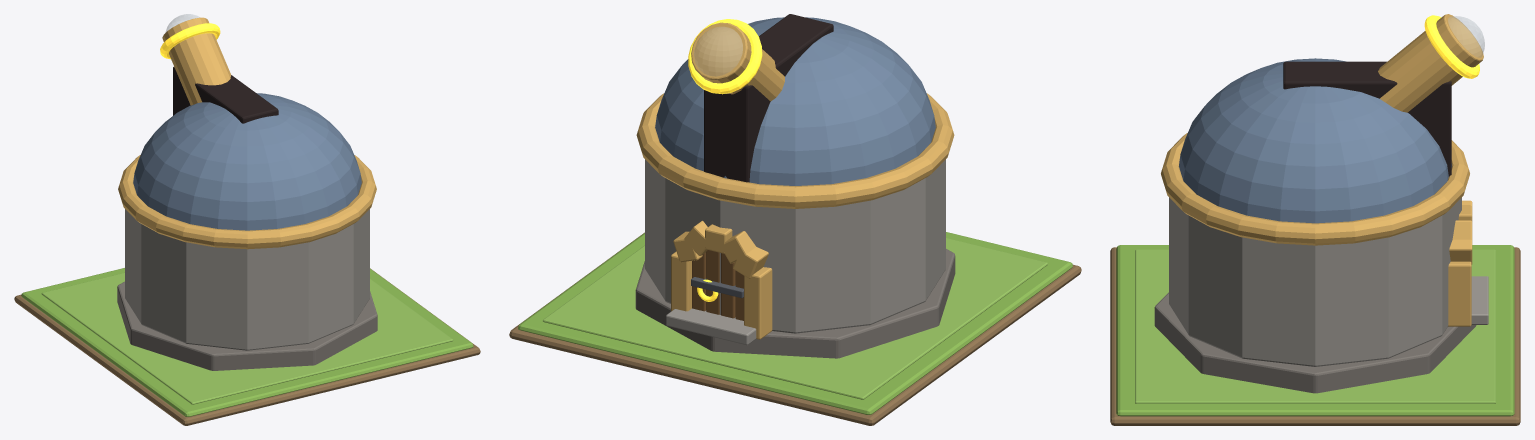
Rendered from star_laboratory_lv4.glb.
The picture shows the model from 3 angles, left to right: view 1: azimuth 30°, elevation 25°; view 2: azimuth 150°, elevation 25°; view 3: azimuth 270°, elevation 25°; orthographic projection. The views are drawn at different scales.
Visible parts, largest first — view 1: SL_Drum, SL_ObservatoryDome, Base_Inner, Base_Grass, SL_Plinth, SL_DomeTrack, Base_Dirt, TelescopeTubeMain, SL_DomeSlitArch, TelescopeCollar; view 2: SL_Drum, SL_ObservatoryDome, Base_Inner, Base_Grass, SL_DomeTrack, SL_Plinth, SL_DomeSlitArch, Base_Dirt, TelescopeTubeMain, DoorStep, TelescopeLens, DoorPillar_-1 (+9 smaller); view 3: SL_Drum, SL_ObservatoryDome, Base_Inner, Base_Grass, SL_DomeTrack, SL_Plinth, Base_Dirt, SL_DomeSlitArch, TelescopeTubeMain, DoorPillar_1, TelescopeCollar, TelescopeLens (+2 smaller).
Boxes of the visible parts, x1,y1,x2,y2 form: SL_Drum: (125, 209, 369, 350); SL_ObservatoryDome: (133, 93, 361, 230); Base_Inner: (41, 272, 453, 404); Base_Grass: (21, 268, 473, 416); SL_Plinth: (117, 281, 377, 370); SL_DomeTrack: (118, 155, 376, 249); Base_Dirt: (14, 268, 480, 425); TelescopeTubeMain: (162, 17, 230, 105); SL_DomeSlitArch: (173, 67, 278, 123); TelescopeCollar: (160, 23, 220, 59); SL_Drum: (645, 159, 945, 333); SL_ObservatoryDome: (655, 17, 935, 185); Base_Inner: (543, 238, 1048, 399); Base_Grass: (518, 232, 1072, 414); SL_DomeTrack: (636, 93, 954, 208); SL_Plinth: (635, 249, 955, 358); SL_DomeSlitArch: (704, 14, 833, 182); Base_Dirt: (509, 232, 1081, 425); TelescopeTubeMain: (691, 22, 784, 101); DoorStep: (666, 308, 756, 345); TelescopeLens: (694, 27, 742, 76); DoorPillar_-1: (744, 267, 772, 339); SL_Drum: (1169, 197, 1461, 366); SL_ObservatoryDome: (1179, 58, 1451, 223); Base_Inner: (1135, 249, 1495, 403); Base_Grass: (1116, 245, 1514, 416); SL_DomeTrack: (1161, 133, 1469, 245); SL_Plinth: (1154, 292, 1476, 393); Base_Dirt: (1110, 247, 1520, 425); SL_DomeSlitArch: (1283, 61, 1451, 176); TelescopeTubeMain: (1378, 14, 1483, 112); DoorPillar_1: (1448, 261, 1471, 326); TelescopeCollar: (1424, 15, 1479, 78); TelescopeLens: (1448, 16, 1484, 57).
Size of the model in its own units: 2.76 by 2.4 by 2.76.
